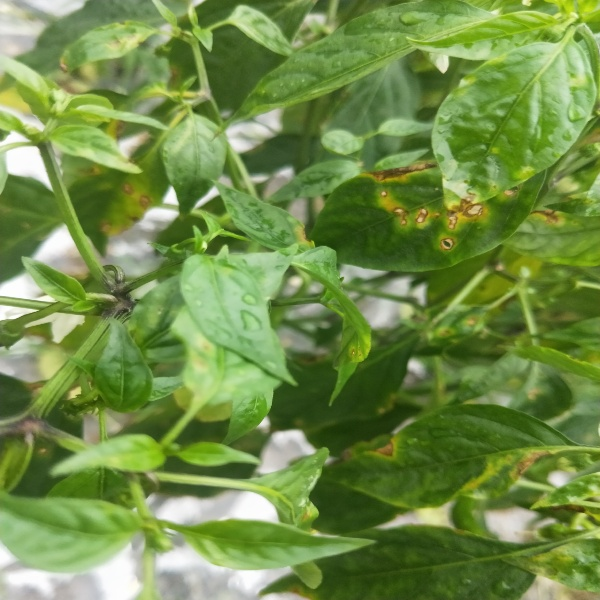Anthrax: (312, 141, 543, 270), (334, 403, 572, 507), (68, 118, 180, 237)
blight: (82, 262, 148, 328)
